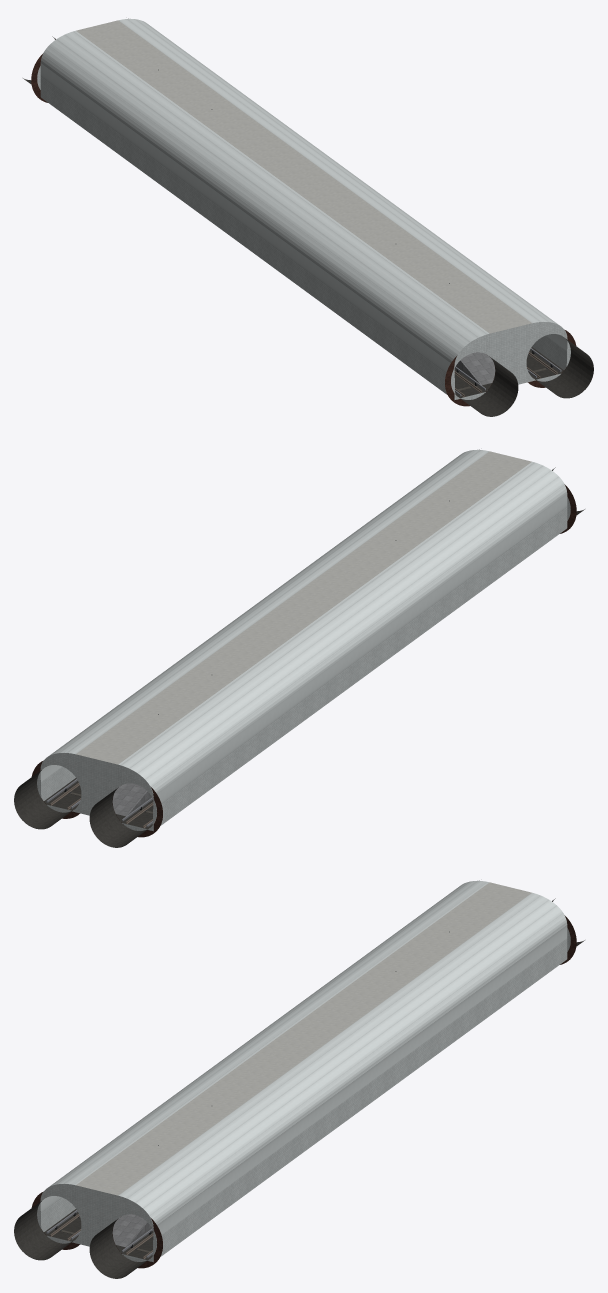
The model's file is station_kelvinbridge.glb.
The picture shows the model from 3 angles, top to bottom: view 1: azimuth 30°, elevation 25°; view 2: azimuth 150°, elevation 25°; view 3: azimuth 330°, elevation 25°; orthographic projection.
Parts seen in each view (by area): view 1: hall_shell, end_walls; view 2: hall_shell, end_walls; view 3: hall_shell, end_walls.
Part boxes in pixels (x1,y1,x2,y2): hall_shell: [40, 18, 567, 399]; end_walls: [23, 18, 593, 416]; hall_shell: [40, 449, 567, 830]; end_walls: [14, 449, 584, 847]; hall_shell: [40, 880, 567, 1261]; end_walls: [14, 880, 584, 1278].
Size of the model in its own units: 9.94 by 4.95 by 60.
Materials: 29 (20 with a texture image).
